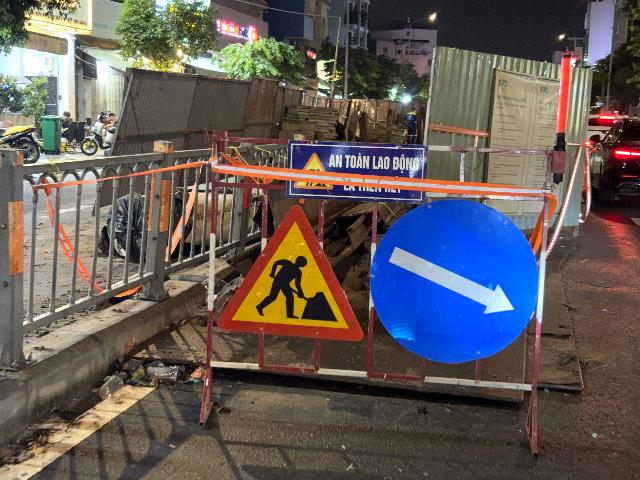cong-truong-dang-thi-cong: (216, 205, 364, 341)
huong-phai-di-vong-chuong-ngai-vat: (368, 200, 539, 363)
